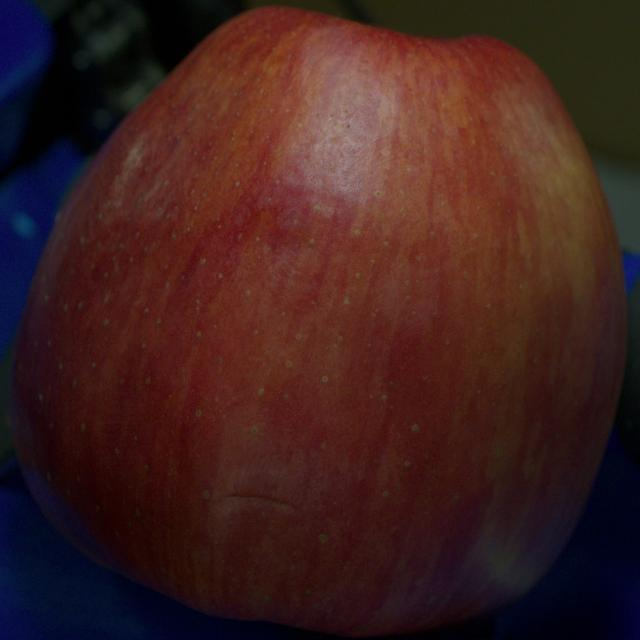apple: (11, 8, 627, 636)
bruise: (218, 494, 294, 512)
